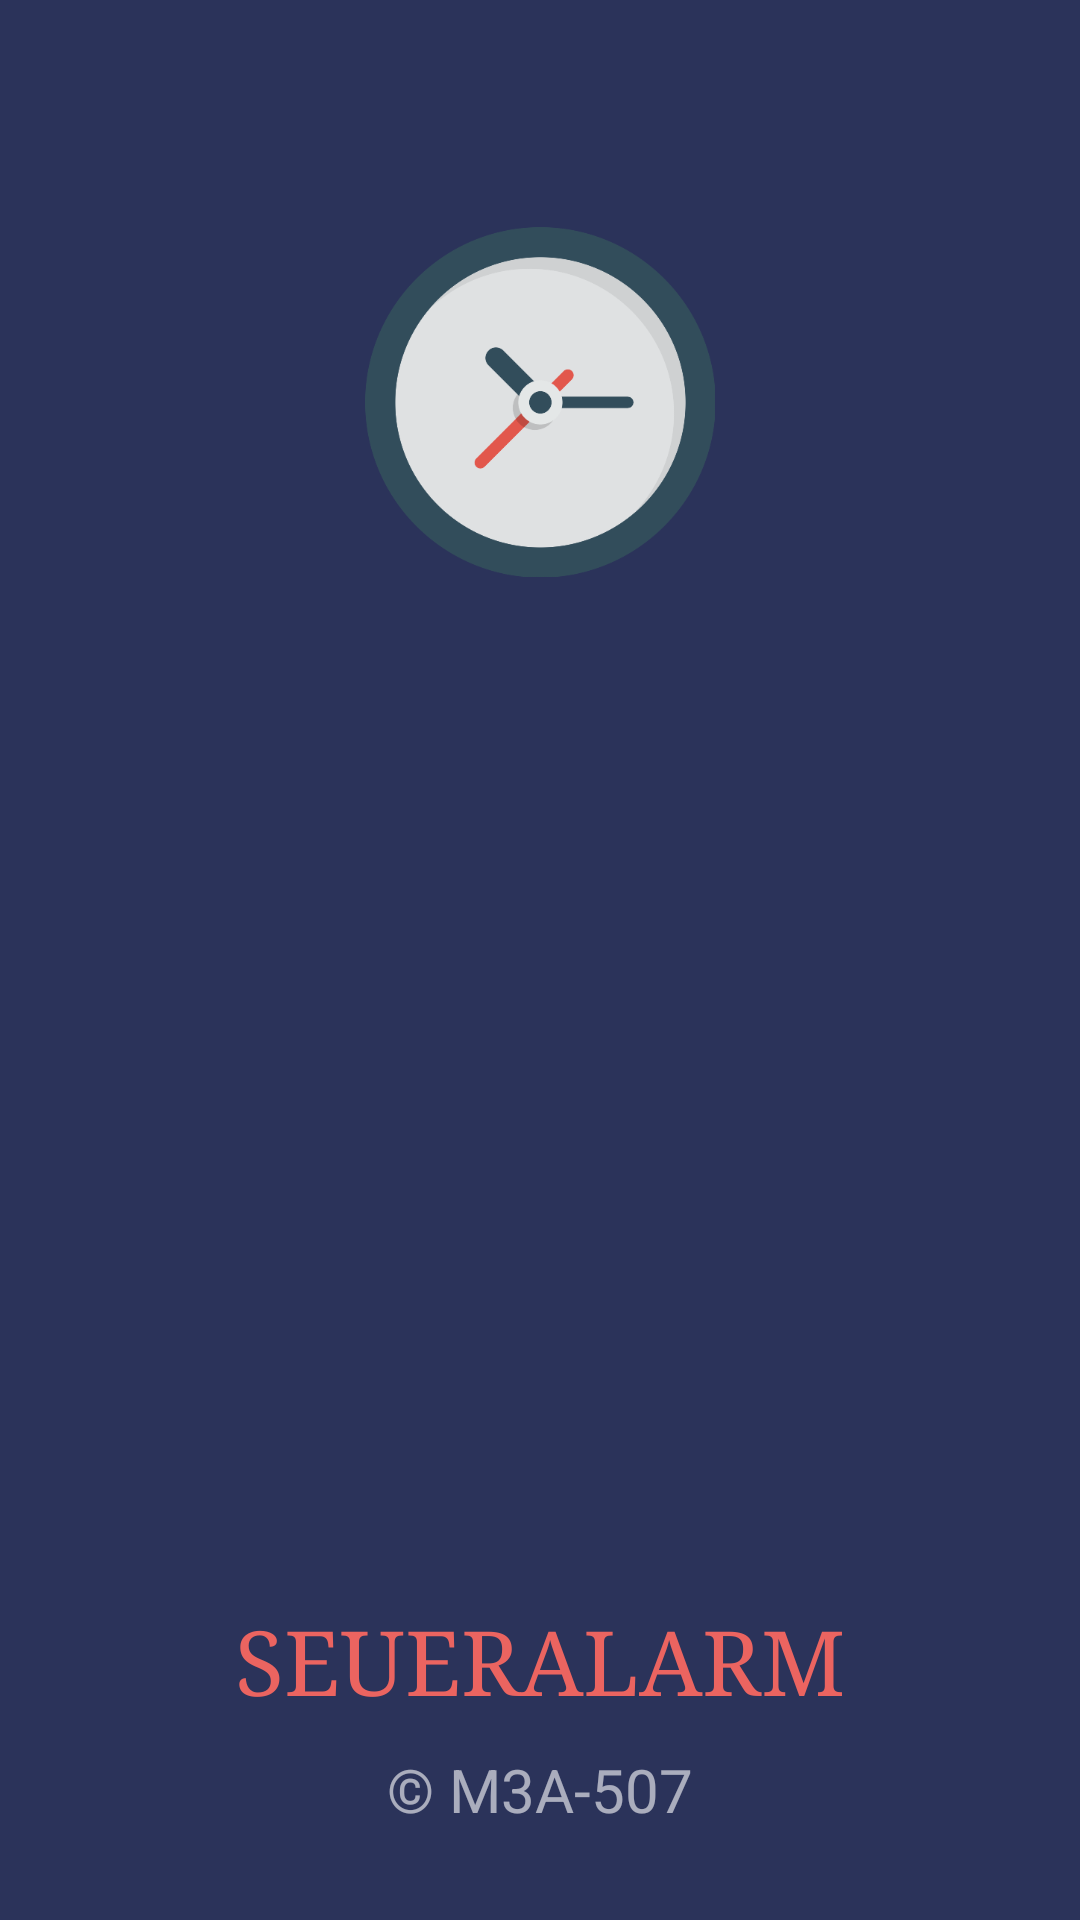

Point at icon controls on the screen. Image size 1080px x 1920px, points as (x=x, y=y).
clock: (x=540, y=402)
